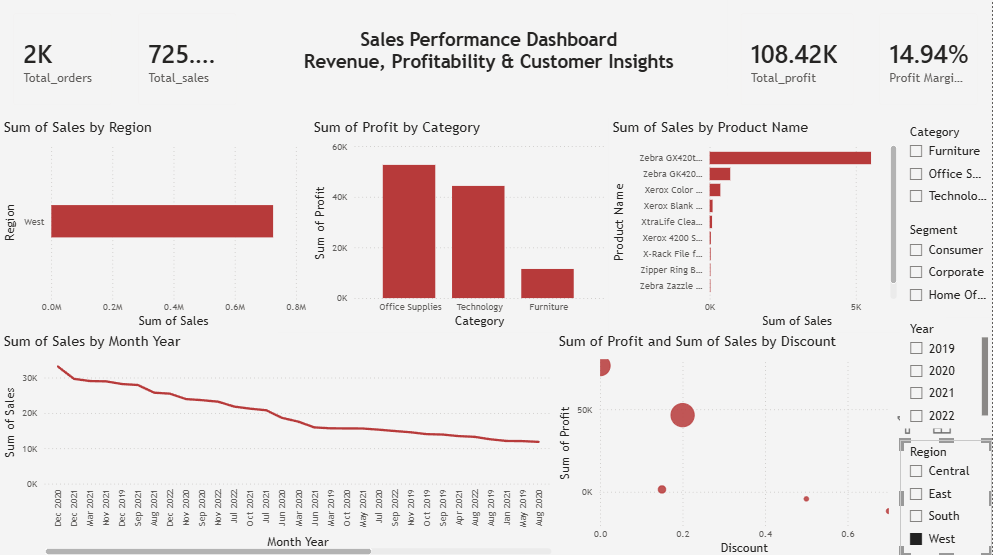

The dashboard page shown, as its layout file describes it:
{"tool":"powerbi","page":{"name":"Page 1","canvas":[1280,720],"ordinal":0},"visuals":[{"type":"cardVisual","fields":{"Data":["Orders.Total_sales"]},"box":[161.7,0,161.7,153.3],"z":0},{"type":"cardVisual","fields":{"Data":["Orders.Total_orders"]},"box":[0,0,161.7,153.3],"z":1},{"type":"cardVisual","fields":{"Data":["Orders.Total_profit"]},"box":[938.3,0,180,153.3],"z":2},{"type":"cardVisual","fields":{"Data":["Orders.Profit Margin %"]},"box":[1118.3,0,161.7,153.3],"z":3},{"type":"textbox","box":[322.6,0,616.1,153.2],"z":4},{"type":"clusteredBarChart","fields":{"Category":["Orders.Region"],"Y":["Sum(Orders.Sales)"]},"box":[0,153.3,400,275],"z":5},{"type":"clusteredColumnChart","fields":{"Category":["Orders.Category"],"Y":["Sum(Orders.Profit)"]},"box":[400,153.3,385,275],"z":6},{"type":"lineChart","fields":{"Category":["Orders.Month Year"],"Y":["Sum(Orders.Sales)"]},"box":[0,428.3,716.7,291.7],"z":7},{"type":"barChart","fields":{"Category":["Orders.Product Name"],"Y":["Sum(Orders.Sales)"]},"box":[785,153.3,376.7,275],"z":8},{"type":"scatterChart","fields":{"Size":["Sum(Orders.Sales)"],"Y":["Sum(Orders.Profit)"],"X":["Orders.Discount"]},"box":[716.7,428.3,445,291.7],"z":9},{"type":"slicer","fields":{"Values":["Orders.Region"]},"box":[1161.7,568.3,118.3,151.7],"z":10},{"type":"slicer","fields":{"Values":["Orders.Category"]},"box":[1161.7,155,118.3,126.7],"z":12},{"type":"slicer","fields":{"Values":["Orders.Segment"]},"box":[1161.7,281.7,118.3,128.3],"z":13},{"type":"slicer","fields":{"Values":["Orders.Year"]},"box":[1161.7,410,118.3,143.3],"z":14}]}

Visuals, with their boxes in screenshot pixels (x1, y1, x2, y2), scaled from the page's 1280x720 canvas onto the 993x555 screenshot:
cardVisual - Orders.Total_sales: (x1=125, y1=0, x2=251, y2=118)
cardVisual - Orders.Total_orders: (x1=0, y1=0, x2=125, y2=118)
cardVisual - Orders.Total_profit: (x1=728, y1=0, x2=868, y2=118)
cardVisual - Orders.Profit Margin %: (x1=868, y1=0, x2=992, y2=118)
textbox: (x1=250, y1=0, x2=728, y2=118)
clusteredBarChart - Orders.Region x Sum(Orders.Sales): (x1=0, y1=118, x2=310, y2=330)
clusteredColumnChart - Orders.Category x Sum(Orders.Profit): (x1=310, y1=118, x2=609, y2=330)
lineChart - Orders.Month Year x Sum(Orders.Sales): (x1=0, y1=330, x2=556, y2=554)
barChart - Orders.Product Name x Sum(Orders.Sales): (x1=609, y1=118, x2=901, y2=330)
scatterChart - Sum(Orders.Sales) x Sum(Orders.Profit): (x1=556, y1=330, x2=901, y2=554)
slicer - Orders.Region: (x1=901, y1=438, x2=992, y2=554)
slicer - Orders.Category: (x1=901, y1=119, x2=992, y2=217)
slicer - Orders.Segment: (x1=901, y1=217, x2=992, y2=316)
slicer - Orders.Year: (x1=901, y1=316, x2=992, y2=427)
